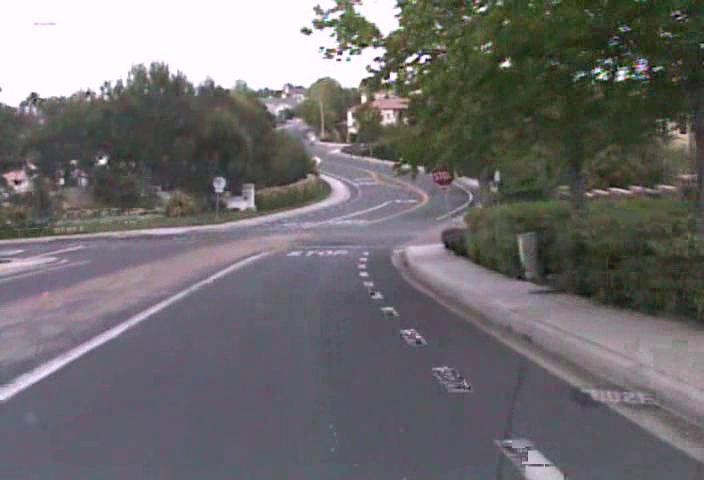stop: (431, 163, 455, 187)
